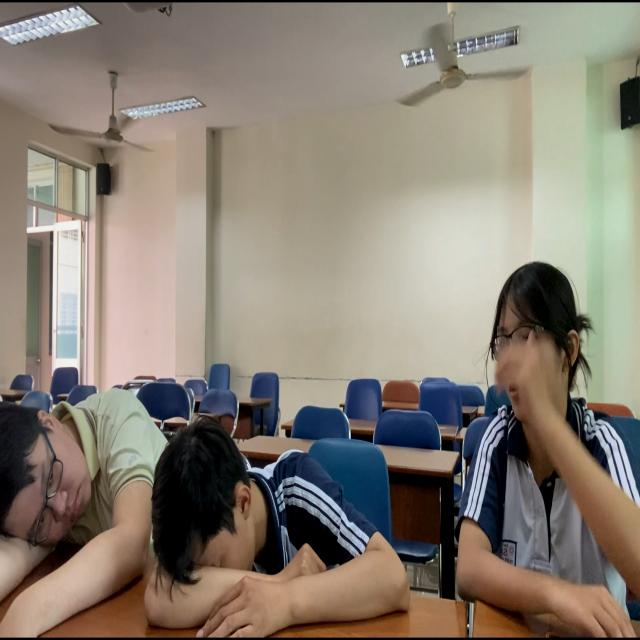raise_hand: (454, 248, 640, 640)
sleep: (152, 409, 404, 638), (1, 369, 169, 608)
